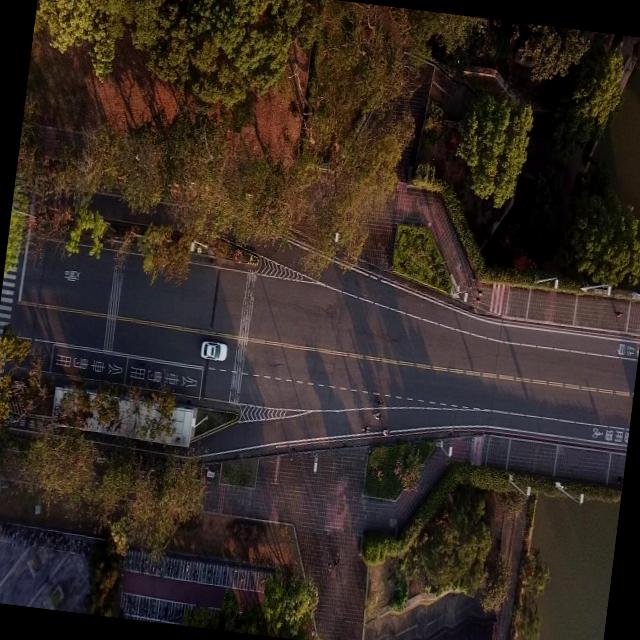bike: (362, 421, 372, 439), (382, 427, 392, 441), (376, 414, 382, 426)
car: (198, 338, 228, 362)
